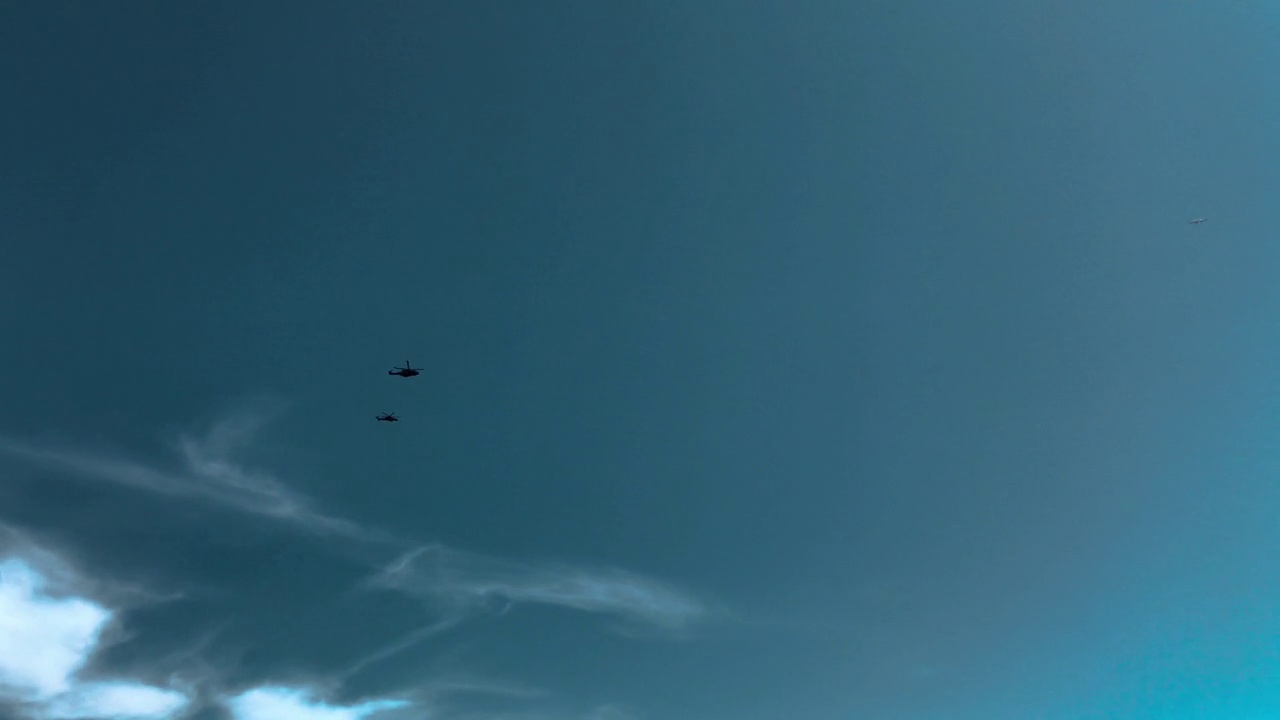heli: (388, 361, 421, 379), (374, 410, 399, 421)
